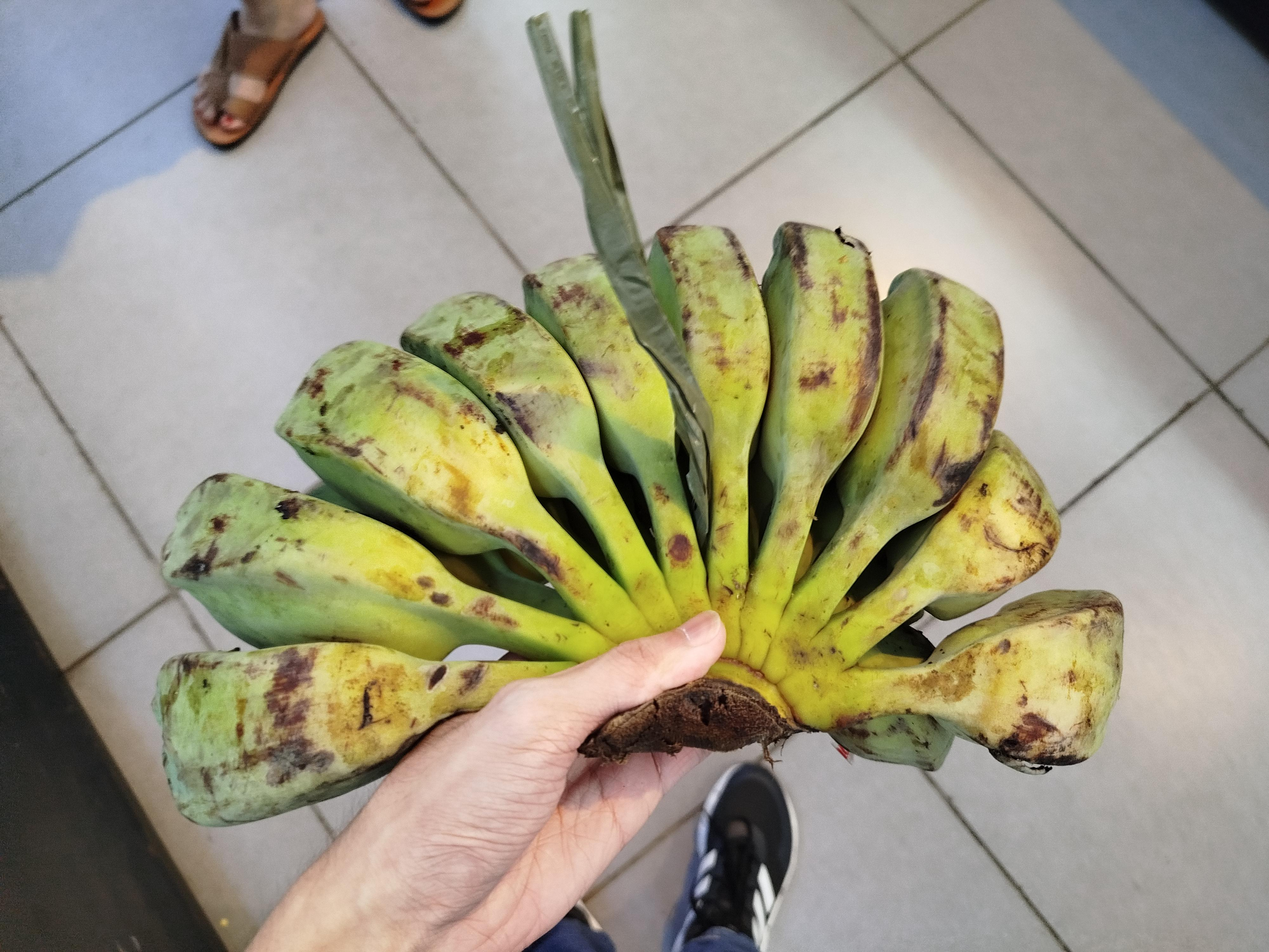underripe: (156, 224, 1123, 825)
